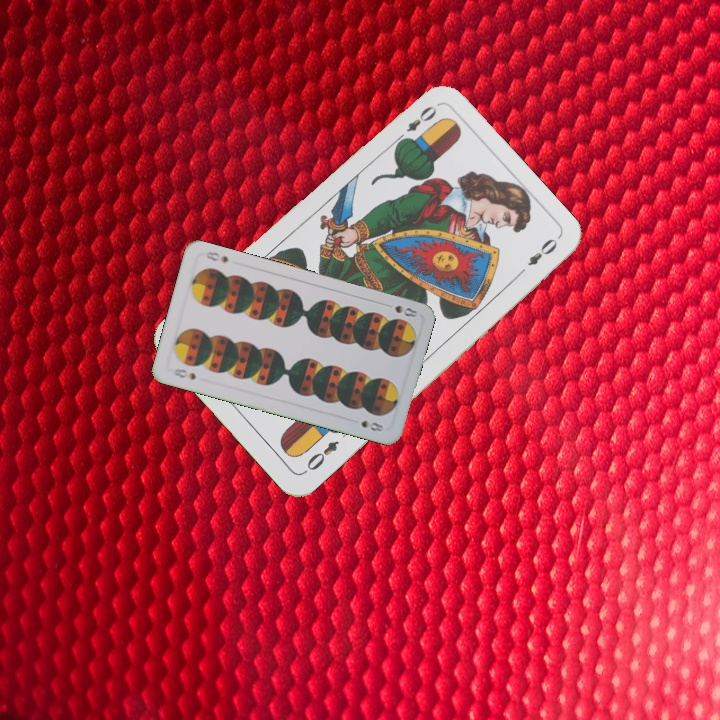EO: (391, 101, 440, 146), (300, 436, 342, 477)
S8: (391, 301, 420, 320), (169, 364, 198, 382)
